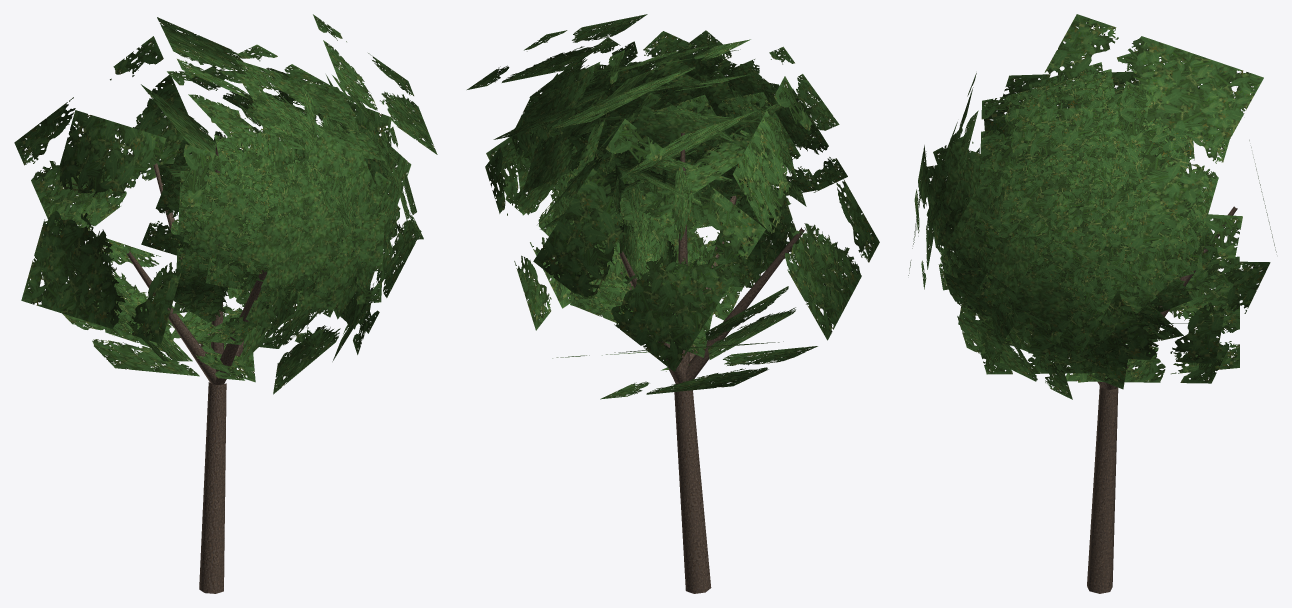
File: tree_birch.glb
The picture shows the model from 3 angles, left to right: view 1: azimuth 30°, elevation 25°; view 2: azimuth 150°, elevation 25°; view 3: azimuth 270°, elevation 25°; orthographic projection. The views are drawn at different scales.
Visible parts, largest first — view 1: tree_birch_foliage, tree_birch_body; view 2: tree_birch_foliage, tree_birch_body; view 3: tree_birch_foliage, tree_birch_body.
Boxes of the visible parts, x1,y1,x2,y2 form: tree_birch_foliage: (14, 14, 437, 394); tree_birch_body: (126, 144, 266, 593); tree_birch_foliage: (467, 14, 879, 399); tree_birch_body: (619, 133, 804, 593); tree_birch_foliage: (908, 14, 1276, 399); tree_birch_body: (1087, 206, 1237, 593).
Bounding box in the file's own units: 0.2919 × 0.406 × 0.2455.
Materials: 2 (2 with a texture image).
